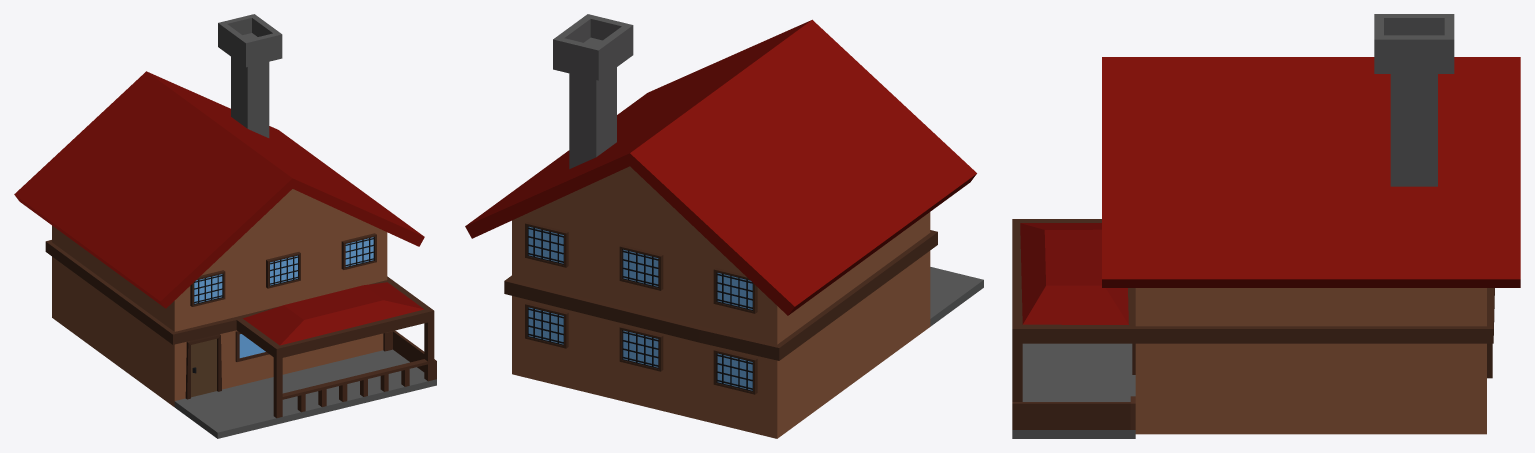
Rendered from House6.fbx.
3 views of the same model, side by side, from view 1: azimuth 30°, elevation 25°; view 2: azimuth 150°, elevation 25°; view 3: azimuth 270°, elevation 25° (orthographic). The views are drawn at different scales.
Parts seen in each view (by area): view 1: Cube.001, Cube.002; view 2: Cube.001, Cube.002; view 3: Cube.001.
Part boxes in pixels (x1,y1,x2,y2): Cube.001: (14, 14, 436, 438); Cube.002: (190, 233, 376, 361); Cube.001: (465, 14, 983, 438); Cube.002: (525, 221, 757, 394); Cube.001: (1012, 14, 1520, 438).
Bounding box in the file's own units: 631 × 605 × 733.
